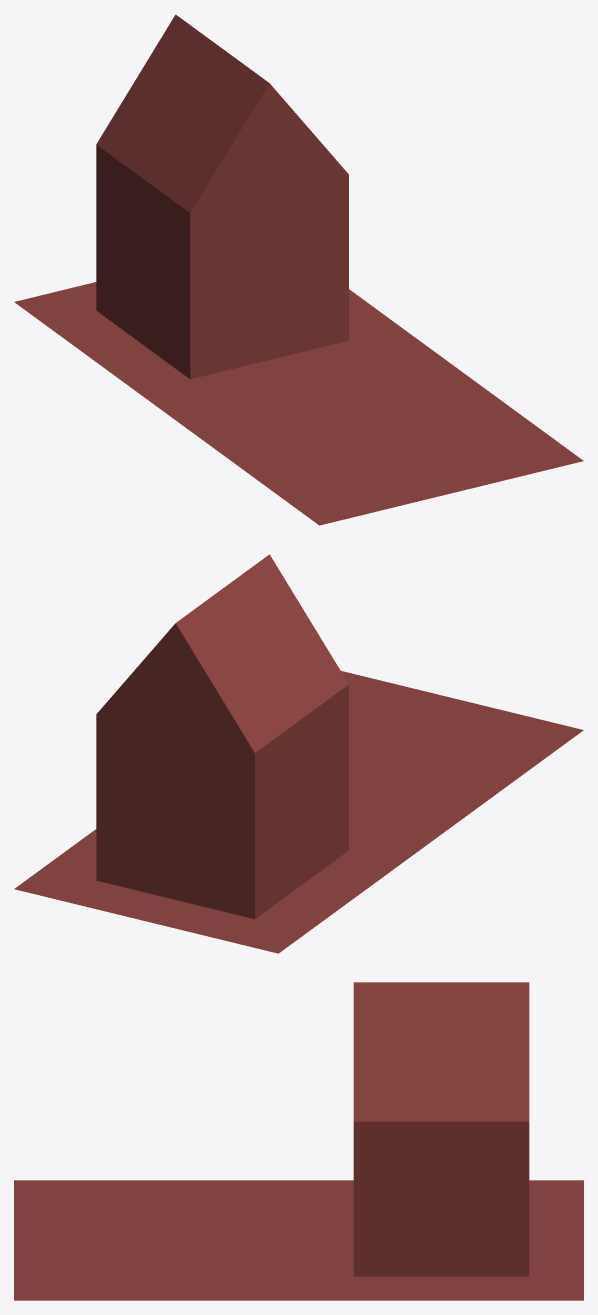
Rendered from 1x2 With Front.fbx.
3 views of the same model, one above another, from view 1: azimuth 30°, elevation 25°; view 2: azimuth 150°, elevation 25°; view 3: azimuth 270°, elevation 25° (orthographic). The views are drawn at different scales.
Parts seen in each view (by area): view 1: 1x2 With Front; view 2: 1x2 With Front; view 3: 1x2 With Front.
Boxes of the visible parts, x1,y1,x2,y2 form: 1x2 With Front: [14, 14, 583, 525]; 1x2 With Front: [14, 554, 583, 953]; 1x2 With Front: [14, 982, 583, 1300].
Size of the model in its own units: 1 by 1 by 2.
